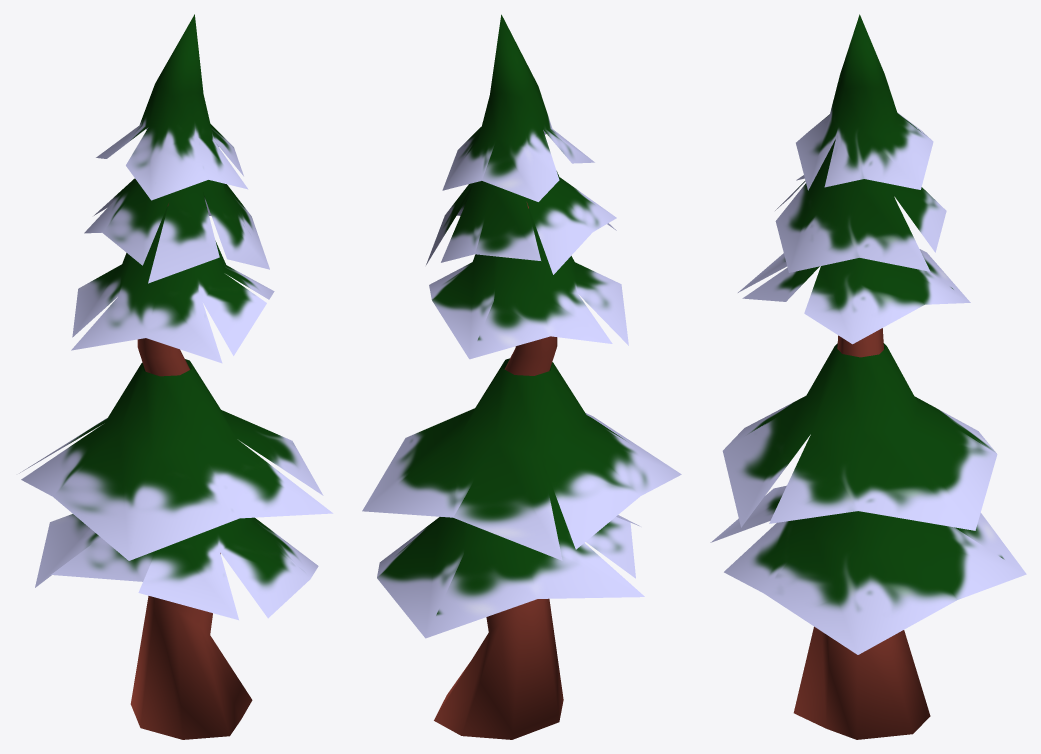
The model's file is pino2.glb.
The picture shows the model from 3 angles, left to right: view 1: azimuth 30°, elevation 25°; view 2: azimuth 150°, elevation 25°; view 3: azimuth 270°, elevation 25°; orthographic projection.
Visible parts, largest first — view 1: hojas2, hojas_1, hojas2.001, tronco, hojas2.002, hojas2.003; view 2: hojas2, hojas_1, hojas2.001, tronco, hojas2.003, hojas2.002; view 3: hojas2, hojas_1, hojas2.002, tronco, hojas2.003, hojas2.001.
Part boxes in pixels (x1=…): hojas2: x1=19, y1=359, x2=333, y2=560; hojas_1: x1=35, y1=514, x2=318, y2=620; hojas2.001: x1=71, y1=206, x2=274, y2=363; tronco: x1=130, y1=203, x2=252, y2=739; hojas2.002: x1=84, y1=178, x2=269, y2=283; hojas2.003: x1=96, y1=14, x2=248, y2=200; hojas2: x1=362, y1=358, x2=681, y2=560; hojas_1: x1=377, y1=459, x2=644, y2=638; hojas2.001: x1=429, y1=208, x2=628, y2=359; tronco: x1=434, y1=202, x2=563, y2=739; hojas2.003: x1=442, y1=14, x2=594, y2=201; hojas2.002: x1=426, y1=171, x2=616, y2=274; hojas2: x1=722, y1=343, x2=997, y2=530; hojas_1: x1=710, y1=485, x2=1026, y2=654; hojas2.002: x1=775, y1=139, x2=946, y2=272; tronco: x1=793, y1=328, x2=930, y2=739; hojas2.003: x1=796, y1=14, x2=933, y2=190; hojas2.001: x1=738, y1=195, x2=970, y2=344.
Bounding box in the file's own units: 5.3 × 12.88 × 5.28.
2 materials, 1 textured.
